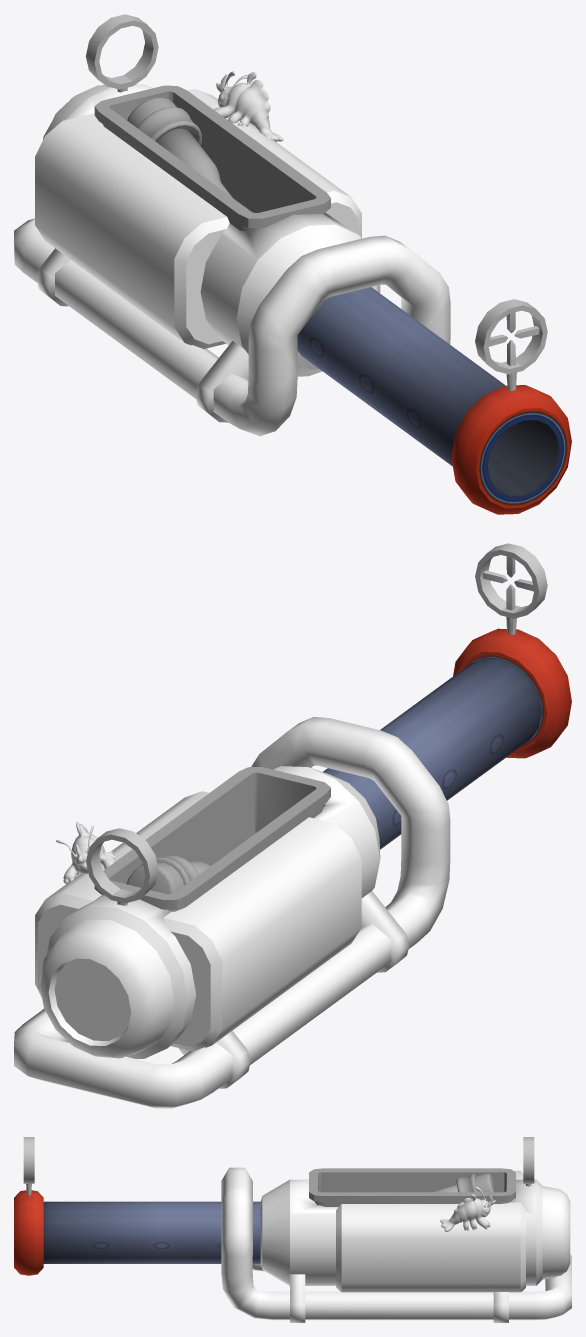
The model's file is fant_mounted_glowgun.fbx.
The picture shows the model from 3 angles, top to bottom: view 1: azimuth 30°, elevation 25°; view 2: azimuth 150°, elevation 25°; view 3: azimuth 270°, elevation 25°; orthographic projection. The views are drawn at different scales.
Visible parts, largest first — view 1: fant_mounted_glowgun; view 2: fant_mounted_glowgun; view 3: fant_mounted_glowgun.
Boxes of the visible parts, x1,y1,x2,y2 form: fant_mounted_glowgun: [14, 14, 571, 514]; fant_mounted_glowgun: [14, 543, 571, 1108]; fant_mounted_glowgun: [14, 1137, 571, 1322].
Bounding box in the file's own units: 106 × 125 × 398.
